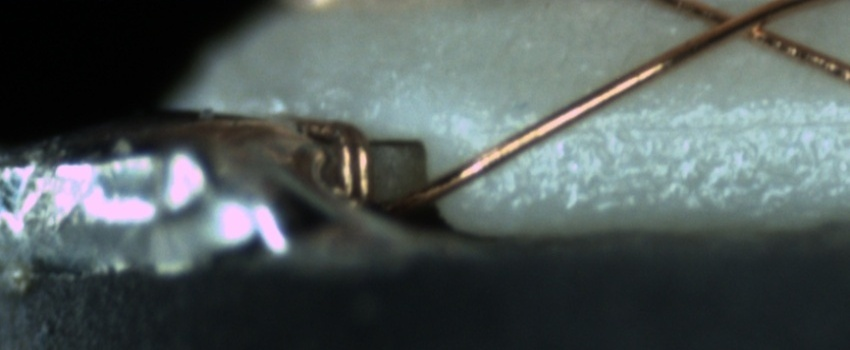CL: (690, 1, 798, 48)
DL: (506, 94, 849, 161)
TE: (288, 110, 372, 216)
